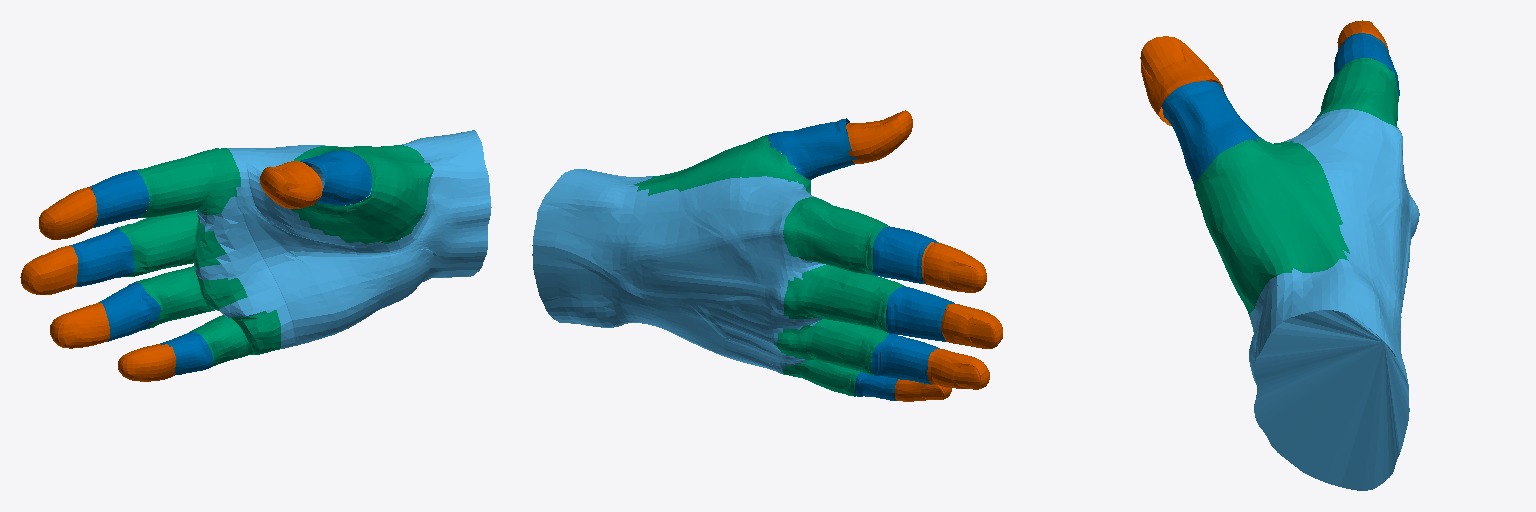
robot.urdf — HumanHand20DOF:
<?xml version='1.0' encoding='ASCII'?>
<robot name="HumanHand20DOF">
  <link name="base_link"/>
  <joint name="base_link_palm" type="fixed">
    <origin rpy="0 0.00000000 0.00000000"/>
    <parent link="base_link"/>
    <child link="palm"/>
  </joint>
  <link name="palm">
    <visual>
      <geometry>
        <mesh filename="./meshes/palm.stl" scale="0.00100000 0.00100000 0.00100000"/>
      </geometry>
    </visual>
    <inertial>
      <mass value="0.15000000"/>
      <inertia ixx="3.3554e-07" ixy="2.3992e-08" ixz="5.0075e-08" iyy="1.0154e-06" iyz="-1.0785e-08" izz="8.5729e-07"/>
      <origin xyz="-0.08137586 0.00027660 -0.00027922"/>
    </inertial>
  </link>
  <link name="index1">
    <visual>
      <geometry>
        <mesh filename="./meshes/index1.stl" scale="0.00100000 0.00100000 0.00100000"/>
      </geometry>
    </visual>
    <inertial>
      <mass value="0.15000000"/>
      <inertia ixx="2.5167e-09" ixy="3.3973e-10" ixz="-3.5973e-10" iyy="5.8923e-09" iyz="1.1618e-10" izz="6.1934e-09"/>
      <origin xyz="0.02011112 -0.00123457 0.00135728"/>
    </inertial>
  </link>
  <link name="index1_0"/>
  <link name="index2">
    <visual>
      <geometry>
        <mesh filename="./meshes/index2.stl" scale="0.00100000 0.00100000 0.00100000"/>
      </geometry>
    </visual>
    <inertial>
      <mass value="0.15000000"/>
      <inertia ixx="7.0013e-10" ixy="-6.2541e-11" ixz="-1.7946e-11" iyy="1.0301e-09" iyz="4.6358e-11" izz="1.0093e-09"/>
      <origin xyz="0.01323931 0.00108058 0.00078962"/>
    </inertial>
  </link>
  <link name="index3">
    <visual>
      <geometry>
        <mesh filename="./meshes/index3.stl" scale="0.00100000 0.00100000 0.00100000"/>
      </geometry>
    </visual>
    <inertial>
      <mass value="0.15000000"/>
      <inertia ixx="2.8210e-10" ixy="-3.7642e-11" ixz="-4.5573e-11" iyy="5.1344e-10" iyz="9.9738e-13" izz="4.6923e-10"/>
      <origin xyz="0.01279242 -0.00009411 -0.00105114"/>
    </inertial>
  </link>
  
  <link name="index1_0_joint"/>
  <joint name="palm_index1_0_joint" type="revolute">
    <origin rpy="-1.57079633 0.00000000 0.00000000" xyz="-0.14005990 0.01120480 0.03641560"/>
    <parent link="palm"/>
    <child link="index1_0_joint"/>
    <axis xyz="0.00000000 0.00000000 1.00000000"/>
    <limit effort="2.50000000" lower="-0.349065850399" upper="0.349065850399" velocity="0.52333333"/>
  </joint>
  <joint name="index1_0_joint_index1_0" type="fixed">
    <origin rpy="1.57079633 0.00000000 0.00000000" xyz="0.00000000 0.00000000 0.00000000"/>
    <parent link="index1_0_joint"/>
    <child link="index1_0"/>
  </joint>
  <link name="index1_joint"/>
  <joint name="index1_0_index1_joint" type="revolute">
    <origin rpy="0.00000000 0.00000000 0.00000000" xyz="0.00000000 0.00000000 0.00000000"/>
    <parent link="index1_0"/>
    <child link="index1_joint"/>
    <axis xyz="0.00000000 0.00000000 1.00000000"/>
    <limit effort="5.00000000" lower="-0.174532925199" upper="1.57079632679" velocity="0.52333333"/>
  </joint>
  <joint name="index1_joint_index1" type="fixed">
    <origin rpy="0.00000000 0.00000000 0.00000000" xyz="-0.04319000 0.00000000 0.00000000"/>
    <parent link="index1_joint"/>
    <child link="index1"/>
  </joint>
  <link name="index2_joint"/>
  <joint name="index1_index2_joint" type="revolute">
    <origin rpy="0.00000000 0.00000000 0.00000000" xyz="0.00000000 0.00000000 0.00000000"/>
    <parent link="index1"/>
    <child link="index2_joint"/>
    <axis xyz="0.00000000 0.00000000 1.00000000"/>
    <limit effort="5.00000000" lower="-0.174532925199" upper="1.57079632679" velocity="0.52333333"/>
  </joint>
  <joint name="index2_joint_index2" type="fixed">
    <origin rpy="0.00000000 0.00000000 0.00000000" xyz="-0.02956000 0.00000000 0.00000000"/>
    <parent link="index2_joint"/>
    <child link="index2"/>
  </joint>
  <link name="index3_joint"/>
  <joint name="index2_index3_joint" type="revolute">
    <origin rpy="0.00000000 0.00000000 0.00000000" xyz="0.00000000 0.00000000 0.00000000"/>
    <parent link="index2"/>
    <child link="index3_joint"/>
    <axis xyz="0.00000000 0.00000000 1.00000000"/>
    <limit effort="5.00000000" lower="-0.174532925199" upper="1.57079632679" velocity="0.52333333"/>
  </joint>
  <joint name="index3_joint_index3" type="fixed">
    <origin rpy="0.00000000 0.00000000 0.00000000" xyz="-0.02535000 0.00000000 0.00000000"/>
    <parent link="index3_joint"/>
    <child link="index3"/>
  </joint>
  
  
  <link name="mid1">
    <visual>
      <geometry>
        <mesh filename="./meshes/mid1.stl" scale="0.00100000 0.00100000 0.00100000"/>
      </geometry>
    </visual>
    <inertial>
      <mass value="0.15000000"/>
      <inertia ixx="2.4872e-09" ixy="-1.2104e-10" ixz="1.8077e-10" iyy="6.5822e-09" iyz="-2.0186e-11" izz="6.8252e-09"/>
      <origin xyz="0.02303335 0.00111214 -0.00040002"/>
    </inertial>
  </link>
  <link name="mid1_0"/>
  <link name="mid2">
    <visual>
      <geometry>
        <mesh filename="./meshes/mid2.stl" scale="0.00100000 0.00100000 0.00100000"/>
      </geometry>
    </visual>
    <inertial>
      <mass value="0.15000000"/>
      <inertia ixx="5.7452e-10" ixy="-6.2291e-11" ixz="-7.8131e-12" iyy="1.0540e-09" iyz="-1.3211e-12" izz="9.8236e-10"/>
      <origin xyz="0.01424607 0.00116390 -0.00075067"/>
    </inertial>
  </link>
  <link name="mid3">
    <visual>
      <geometry>
        <mesh filename="./meshes/mid3.stl" scale="0.00100000 0.00100000 0.00100000"/>
      </geometry>
    </visual>
    <inertial>
      <mass value="0.15000000"/>
      <inertia ixx="2.2519e-10" ixy="-2.7224e-11" ixz="-1.8756e-11" iyy="4.3349e-10" iyz="-1.0208e-11" izz="3.9091e-10"/>
      <origin xyz="0.01619712 0.00013602 -0.00123824"/>
    </inertial>
  </link>
  <link name="mid1_0_joint"/>
  <joint name="palm_mid1_0_joint" type="revolute">
    <origin rpy="-1.57079633 0.00000000 0.00000000" xyz="-0.14566230 0.01120480 0.00840360"/>
    <parent link="palm"/>
    <child link="mid1_0_joint"/>
    <axis xyz="0.00000000 0.00000000 1.00000000"/>
    <limit effort="5.00000000" lower="-0.174532925199" upper="0.174532925199" velocity="0.52333333"/>
  </joint>
  <joint name="mid1_0_joint_mid1_0" type="fixed">
    <origin rpy="1.57079633 0.00000000 0.00000000" xyz="0.00000000 0.00000000 0.00000000"/>
    <parent link="mid1_0_joint"/>
    <child link="mid1_0"/>
  </joint>
  <link name="mid1_joint"/>
  <joint name="mid1_0_mid1_joint" type="revolute">
    <origin rpy="0.00000000 0.00000000 0.00000000" xyz="0.00000000 0.00000000 0.00000000"/>
    <parent link="mid1_0"/>
    <child link="mid1_joint"/>
    <axis xyz="0.00000000 0.00000000 1.00000000"/>
    <limit effort="2.50000000" lower="-0.174532925199" upper="1.57079632679" velocity="0.52333333"/>
  </joint>
  <joint name="mid1_joint_mid1" type="fixed">
    <origin rpy="0.00000000 0.00000000 0.00000000" xyz="-0.04620000 0.00000000 0.00000000"/>
    <parent link="mid1_joint"/>
    <child link="mid1"/>
  </joint>
  <link name="mid2_joint"/>
  <joint name="mid1_mid2_joint" type="revolute">
    <origin rpy="0.00000000 0.00000000 0.00000000" xyz="0.00000000 0.00000000 0.00000000"/>
    <parent link="mid1"/>
    <child link="mid2_joint"/>
    <axis xyz="0.00000000 0.00000000 1.00000000"/>
    <limit effort="5.00000000" lower="-0.174532925199" upper="1.57079632679" velocity="0.52333333"/>
  </joint>
  <joint name="mid2_joint_mid2" type="fixed">
    <origin rpy="0.00000000 0.00000000 0.00000000" xyz="-0.03099000 0.00000000 0.00000000"/>
    <parent link="mid2_joint"/>
    <child link="mid2"/>
  </joint>
  <link name="mid3_joint"/>
  <joint name="mid2_mid3_joint" type="revolute">
    <origin rpy="0.00000000 0.00000000 0.00000000" xyz="0.00000000 0.00000000 0.00000000"/>
    <parent link="mid2"/>
    <child link="mid3_joint"/>
    <axis xyz="0.00000000 0.00000000 1.00000000"/>
    <limit effort="5.00000000" lower="-0.174532925199" upper="1.57079632679" velocity="0.52333333"/>
  </joint>
  <joint name="mid3_joint_mid3" type="fixed">
    <origin rpy="0.00000000 0.00000000 0.00000000" xyz="-0.02920000 0.00000000 0.00000000"/>
    <parent link="mid3_joint"/>
    <child link="mid3"/>
  </joint>
  <link name="ring1">
    <visual>
      <geometry>
        <mesh filename="./meshes/ring1.stl" scale="0.00100000 0.00100000 0.00100000"/>
      </geometry>
    </visual>
    <inertial>
      <mass value="0.15000000"/>
      <inertia ixx="1.7522e-09" ixy="9.4905e-11" ixz="5.0620e-11" iyy="4.7666e-09" iyz="8.8841e-11" izz="5.1380e-09"/>
      <origin xyz="0.02304180 0.00157391 0.00013144"/>
    </inertial>
  </link>
  <link name="ring1_0"/>
  <link name="ring2">
    <visual>
      <geometry>
        <mesh filename="./meshes/ring2.stl" scale="0.00100000 0.00100000 0.00100000"/>
      </geometry>
    </visual>
    <inertial>
      <mass value="0.15000000"/>
      <inertia ixx="4.5378e-10" ixy="-9.9898e-11" ixz="-2.8513e-11" iyy="7.8196e-10" iyz="-3.1049e-11" izz="7.5320e-10"/>
      <origin xyz="0.01610605 0.00034652 -0.00137162"/>
    </inertial>
  </link>
  <link name="ring3">
    <visual>
      <geometry>
        <mesh filename="./meshes/ring3.stl" scale="0.00100000 0.00100000 0.00100000"/>
      </geometry>
    </visual>
    <inertial>
      <mass value="0.15000000"/>
      <inertia ixx="1.9218e-10" ixy="-1.2536e-11" ixz="7.8242e-12" iyy="-1.2536e-11" iyz="4.2733e-10" izz="-1.4502e-11"/>
      <origin xyz="0.01407043 -0.00211063 -0.00254810"/>
    </inertial>
  </link>
  <link name="ring1_0_joint"/>
  <joint name="palm_ring1_0_joint" type="revolute">
    <origin rpy="-1.57079633 0.00000000 0.00000000" xyz="-0.14566230 0.00560250 -0.01960840"/>
    <parent link="palm"/>
    <child link="ring1_0_joint"/>
    <axis xyz="0.00000000 0.00000000 1.00000000"/>
    <limit effort="5.00000000" lower="-0.349065850399" upper="0.349065850399" velocity="0.52333333"/>
  </joint>
  <joint name="ring1_0_joint_ring1_0" type="fixed">
    <origin rpy="1.57079633 0.00000000 0.00000000" xyz="0.00000000 0.00000000 0.00000000"/>
    <parent link="ring1_0_joint"/>
    <child link="ring1_0"/>
  </joint>
  <link name="ring1_joint"/>
  <joint name="ring1_0_ring1_joint" type="revolute">
    <origin rpy="0.00000000 0.00000000 0.00000000" xyz="0.00000000 0.00000000 0.00000000"/>
    <parent link="ring1_0"/>
    <child link="ring1_joint"/>
    <axis xyz="0.00000000 0.00000000 1.00000000"/>
    <limit effort="2.50000000" lower="-0.174532925199" upper="1.57079632679" velocity="0.52333333"/>
  </joint>
  <joint name="ring1_joint_ring1" type="fixed">
    <origin rpy="0.00000000 0.00000000 0.00000000" xyz="-0.03912000 0.00000000 0.00000000"/>
    <parent link="ring1_joint"/>
    <child link="ring1"/>
  </joint>
  <link name="ring2_joint"/>
  <joint name="ring1_ring2_joint" type="revolute">
    <origin rpy="0.00000000 0.00000000 0.00000000" xyz="0.00000000 0.00000000 0.00000000"/>
    <parent link="ring1"/>
    <child link="ring2_joint"/>
    <axis xyz="0.00000000 0.00000000 1.00000000"/>
    <limit effort="5.00000000" lower="-0.174532925199" upper="1.57079632679" velocity="0.52333333"/>
  </joint>
  <joint name="ring2_joint_ring2" type="fixed">
    <origin rpy="0.00000000 0.00000000 0.00000000" xyz="-0.02831000 0.00000000 0.00000000"/>
    <parent link="ring2_joint"/>
    <child link="ring2"/>
  </joint>
  <link name="ring3_joint"/>
  <joint name="ring2_ring3_joint" type="revolute">
    <origin rpy="0.00000000 0.00000000 0.00000000" xyz="0.00000000 0.00000000 0.00000000"/>
    <parent link="ring2"/>
    <child link="ring3_joint"/>
    <axis xyz="0.00000000 0.00000000 1.00000000"/>
    <limit effort="5.00000000" lower="-0.174532925199" upper="1.57079632679" velocity="0.52333333"/>
  </joint>
  <joint name="ring3_joint_ring3" type="fixed">
    <origin rpy="0.00000000 0.00000000 0.00000000" xyz="-0.02448000 0.00000000 0.00000000"/>
    <parent link="ring3_joint"/>
    <child link="ring3"/>
  </joint>
  <link name="pinky1">
    <visual>
      <geometry>
        <mesh filename="./meshes/pinky1.stl" scale="0.00100000 0.00100000 0.00100000"/>
      </geometry>
    </visual>
    <inertial>
      <mass value="0.15000000"/>
      <inertia ixx="9.1748e-10" ixy="1.9553e-10" ixz="-9.7358e-12" iyy="1.6568e-09" iyz="8.1955e-11" izz="1.8240e-09"/>
      <origin xyz="0.01815957 0.00125307 0.00044100"/>
    </inertial>
  </link>
  <link name="pinky1_0"/>
  <link name="pinky2">
    <visual>
      <geometry>
        <mesh filename="./meshes/pinky2.stl" scale="0.00100000 0.00100000 0.00100000"/>
      </geometry>
    </visual>
    <inertial>
      <mass value="0.15000000"/>
      <inertia ixx="2.3418e-10" ixy="2.6896e-12" ixz="1.9487e-11" iyy="3.6013e-10" iyz="-2.2696e-13" izz="3.5602e-10"/>
      <origin xyz="0.01160125 0.00007157 -0.00141618"/>
    </inertial>
  </link>
  <link name="pinky3">
    <visual>
      <geometry>
        <mesh filename="./meshes/pinky3.stl" scale="0.00100000 0.00100000 0.00100000"/>
      </geometry>
    </visual>
    <inertial>
      <mass value="0.15000000"/>
      <inertia ixx="1.5031e-10" ixy="-1.7414e-11" ixz="2.7273e-11" iyy="3.1403e-10" iyz="2.1438e-12" izz="2.1438e-12"/>
      <origin xyz="0.01421079 -0.00252850 -0.00003521"/>
    </inertial>
  </link>
  <link name="pinky1_0_joint"/>
  <joint name="palm_pinky1_0_joint" type="revolute">
    <origin rpy="-1.57079633 0.00000000 0.00000000" xyz="-0.13445750 -0.00840350 -0.04201800"/>
    <parent link="palm"/>
    <child link="pinky1_0_joint"/>
    <axis xyz="0.00000000 0.00000000 1.00000000"/>
    <limit effort="5.00000000" lower="-0.523598775598" upper="0.523598775598" velocity="0.52333333"/>
  </joint>
  <joint name="pinky1_0_joint_pinky1_0" type="fixed">
    <origin rpy="1.57079633 0.00000000 0.00000000" xyz="0.00000000 0.00000000 0.00000000"/>
    <parent link="pinky1_0_joint"/>
    <child link="pinky1_0"/>
  </joint>
  <link name="pinky1_joint"/>
  <joint name="pinky1_0_pinky1_joint" type="revolute">
    <origin rpy="0.00000000 0.00000000 0.00000000" xyz="0.00000000 0.00000000 0.00000000"/>
    <parent link="pinky1_0"/>
    <child link="pinky1_joint"/>
    <axis xyz="0.00000000 0.00000000 1.00000000"/>
    <limit effort="2.50000000" lower="-0.174532925199" upper="1.57079632679" velocity="0.52333333"/>
  </joint>
  <joint name="pinky1_joint_pinky1" type="fixed">
    <origin rpy="0.00000000 0.00000000 0.00000000" xyz="-0.02991000 0.00000000 0.00000000"/>
    <parent link="pinky1_joint"/>
    <child link="pinky1"/>
  </joint>
  <link name="pinky2_joint"/>
  <joint name="pinky1_pinky2_joint" type="revolute">
    <origin rpy="0.00000000 0.00000000 0.00000000" xyz="0.00000000 0.00000000 0.00000000"/>
    <parent link="pinky1"/>
    <child link="pinky2_joint"/>
    <axis xyz="0.00000000 0.00000000 1.00000000"/>
    <limit effort="5.00000000" lower="-0.174532925199" upper="1.57079632679" velocity="0.52333333"/>
  </joint>
  <joint name="pinky2_joint_pinky2" type="fixed">
    <origin rpy="0.00000000 0.00000000 0.00000000" xyz="-0.02110000 0.00000000 0.00000000"/>
    <parent link="pinky2_joint"/>
    <child link="pinky2"/>
  </joint>
  <link name="pinky3_joint"/>
  <joint name="pinky2_pinky3_joint" type="revolute">
    <origin rpy="0.00000000 0.00000000 0.00000000" xyz="0.00000000 0.00000000 0.00000000"/>
    <parent link="pinky2"/>
    <child link="pinky3_joint"/>
    <axis xyz="0.00000000 0.00000000 1.00000000"/>
    <limit effort="5.00000000" lower="-0.174532925199" upper="1.57079632679" velocity="0.52333333"/>
  </joint>
  <joint name="pinky3_joint_pinky3" type="fixed">
    <origin rpy="0.00000000 0.00000000 0.00000000" xyz="-0.02316000 0.00000000 0.00000000"/>
    <parent link="pinky3_joint"/>
    <child link="pinky3"/>
  </joint>
  <link name="thumb1">
    <visual>
      <geometry>
        <mesh filename="./meshes/thumb1.stl" scale="0.00100000 0.00100000 0.00100000"/>
      </geometry>
    </visual>
    <inertial>
      <mass value="0.15000000"/>
      <inertia ixx="1.4027e-08" ixy="-5.0407e-09" ixz="2.0608e-09" iyy="2.8099e-08" iyz="-3.4404e-10" izz="2.7290e-08"/>
      <origin xyz="-0.01284141 0.00304866 -0.00010647"/>
    </inertial>
  </link>
  <link name="thumb1_0"/>
  <link name="thumb2">
    <visual>
      <geometry>
        <mesh filename="./meshes/thumb2.stl" scale="0.00100000 0.00100000 0.00100000"/>
      </geometry>
    </visual>
    <inertial>
      <mass value="0.15000000"/>
      <inertia ixx="1.2243e-09" ixy="-2.6135e-10" ixz="3.8755e-11" iyy="2.3447e-09" iyz="7.2414e-11" izz="2.2779e-09"/>
      <origin xyz="-0.01259928 -0.00318035 0.00054580"/>
    </inertial>
  </link>
  <link name="thumb3">
    <visual>
      <geometry>
        <mesh filename="./meshes/thumb3.stl" scale="0.00100000 0.00100000 0.00100000"/>
      </geometry>
    </visual>
    <inertial>
      <mass value="0.15000000"/>
      <inertia ixx="9.5483e-10" ixy="4.0583e-11" ixz="3.4110e-11" iyy="8.2473e-10" iyz="-1.9831e-11" izz="5.3116e-10"/>
      <origin xyz="0.00097733 0.00245070 0.01787106"/>
    </inertial>
  </link>
  <link name="thumb1_0_joint"/>
  <joint name="palm_thumb1_0_joint" type="revolute">
    <origin rpy="1.36529812 -0.42128841 -1.73437755" xyz="-0.05062410 -0.01150820 0.01893170"/>
    <parent link="palm"/>
    <child link="thumb1_0_joint"/>
    <axis xyz="0.00000000 0.00000000 1.00000000"/>
    <limit effort="5.00000000" lower="-0.174532925199" upper="1.2217304764" velocity="0.52333333"/>
  </joint>
  <joint name="thumb1_0_joint_thumb1_0" type="fixed">
    <origin rpy="1.57079633 0.00000000 0.00000000" xyz="0.00000000 0.00000000 0.00000000"/>
    <parent link="thumb1_0_joint"/>
    <child link="thumb1_0"/>
  </joint>
  <link name="thumb1_joint"/>
  <joint name="thumb1_0_thumb1_joint" type="revolute">
    <origin rpy="0.00000000 0.00000000 0.00000000" xyz="0.00000000 0.00000000 0.00000000"/>
    <parent link="thumb1_0"/>
    <child link="thumb1_joint"/>
    <axis xyz="0.00000000 0.00000000 1.00000000"/>
    <limit effort="5.00000000" lower="-0.872664625997" upper="0.436332312999" velocity="0.52333333"/>
  </joint>
  <link name="thumb1_dh"/>
  <joint name="thumb1_joint_thumb1_dh" type="fixed">
    <origin rpy="0.00000000 0.00000000 0.86393798"/>
    <parent link="thumb1_joint"/>
    <child link="thumb1_dh"/>
  </joint>
  <joint name="thumb1_dh_thumb1" type="fixed">
    <origin rpy="0.76794487 0.00000000 0.00000000" xyz="0.05211930 0.00000000 0.00000000"/>
    <parent link="thumb1_dh"/>
    <child link="thumb1"/>
  </joint>
  <link name="thumb2_joint"/>
  <joint name="thumb1_thumb2_joint" type="revolute">
    <origin rpy="0.00000000 0.00000000 0.00000000" xyz="0.00000000 0.00000000 0.00000000"/>
    <parent link="thumb1"/>
    <child link="thumb2_joint"/>
    <axis xyz="0.00000000 0.00000000 1.00000000"/>
    <limit effort="5.00000000" lower="0.0" upper="1.57079632679" velocity="0.52333333"/>
  </joint>
  <link name="thumb2_dh"/>
  <joint name="thumb2_joint_thumb2_dh" type="fixed">
    <origin rpy="0.00000000 0.00000000 0.08726646"/>
    <parent link="thumb2_joint"/>
    <child link="thumb2_dh"/>
  </joint>
  <joint name="thumb2_dh_thumb2" type="fixed">
    <origin rpy="0.00000000 0.00000000 0.00000000" xyz="0.04076380 0.00000000 0.00000000"/>
    <parent link="thumb2_dh"/>
    <child link="thumb2"/>
  </joint>
  <link name="thumb3_joint"/>
  <joint name="thumb2_thumb3_joint" type="revolute">
    <origin rpy="0.00000000 0.00000000 0.00000000" xyz="0.00000000 0.00000000 0.00000000"/>
    <parent link="thumb2"/>
    <child link="thumb3_joint"/>
    <axis xyz="0.00000000 0.00000000 1.00000000"/>
    <limit effort="5.00000000" lower="0.0" upper="1.74532925199" velocity="0.52333333"/>
  </joint>
  <link name="thumb3_dh"/>
  <joint name="thumb3_joint_thumb3_dh" type="fixed">
    <origin rpy="0.00000000 0.00000000 1.48352986"/>
    <parent link="thumb3_joint"/>
    <child link="thumb3_dh"/>
  </joint>
  <joint name="thumb3_dh_thumb3" type="fixed">
    <origin rpy="1.57079633 0.00000000 0.00000000" xyz="0.00000000 0.00000000 0.00000000"/>
    <parent link="thumb3_dh"/>
    <child link="thumb3"/>
  </joint>
</robot>

--- What the picture shows (computed from the rendered views, not written in the file) ---
Views: 3 orthographic renders of the robot side by side, from view 1: azimuth 30°, elevation 25°; view 2: azimuth 150°, elevation 25°; view 3: azimuth 270°, elevation 25°.
Robot: HumanHand20DOF — 45 links, 44 joints (20 revolute, 24 fixed); root link base_link; default pose: all joints at 0.
Links seen in each view (by area): view 1: palm, thumb1, index1, mid1, ring1, pinky1, mid2, thumb2, index2, thumb3, ring2, index3 (+4 smaller); view 2: palm, index1, mid1, thumb1, ring1, thumb2, mid2, index2, index3, ring2, thumb3, mid3 (+4 smaller); view 3: palm, thumb1, thumb2, index1, thumb3, index2, index3.
Boxes of the visible links, x1,y1,x2,y2 form: palm: (195,130,491,349); thumb1: (291,145,433,243); index1: (137,148,240,218); mid1: (118,210,226,276); ring1: (136,265,247,329); pinky1: (190,310,280,366); mid2: (70,227,134,286); thumb2: (300,150,371,205); index2: (91,170,149,227); thumb3: (260,161,322,208); ring2: (99,282,160,341); index3: (39,186,97,239); palm: (532,169,825,374); index1: (783,197,888,274); mid1: (783,265,903,332); thumb1: (634,135,810,195); ring1: (777,319,888,374); thumb2: (768,118,856,179); mid2: (886,286,954,341); index2: (872,226,937,283); index3: (921,242,986,292); ring2: (871,334,939,384); thumb3: (846,110,912,163); mid3: (941,304,1002,348); palm: (1249,109,1419,490); thumb1: (1194,136,1349,315); thumb2: (1162,81,1258,185); index1: (1312,58,1398,128); thumb3: (1140,36,1225,125); index2: (1334,33,1399,95); index3: (1337,20,1388,59).
Bounding box of the posed robot: 0.2525 × 0.1027 × 0.1265 m (x, y, z).
16 mesh visuals loaded from 16 distinct referenced files (16 binary STL).